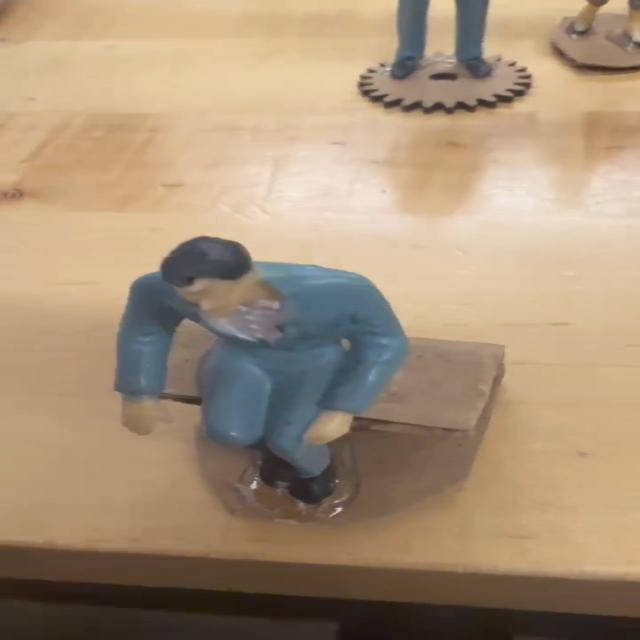Authorized: (60, 223, 508, 540)
